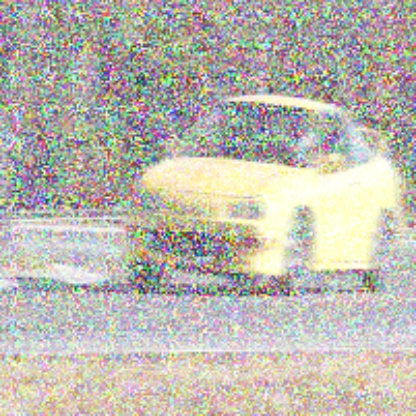Vehicle: (121, 93, 404, 301)
